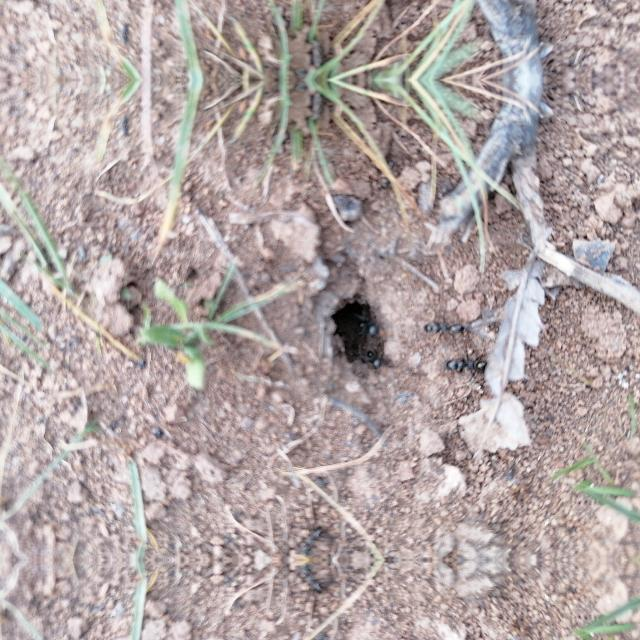Cataglyphis: (439, 350, 493, 378), (294, 523, 330, 557), (294, 563, 330, 597), (348, 308, 382, 342), (419, 316, 471, 338), (363, 348, 387, 370)
